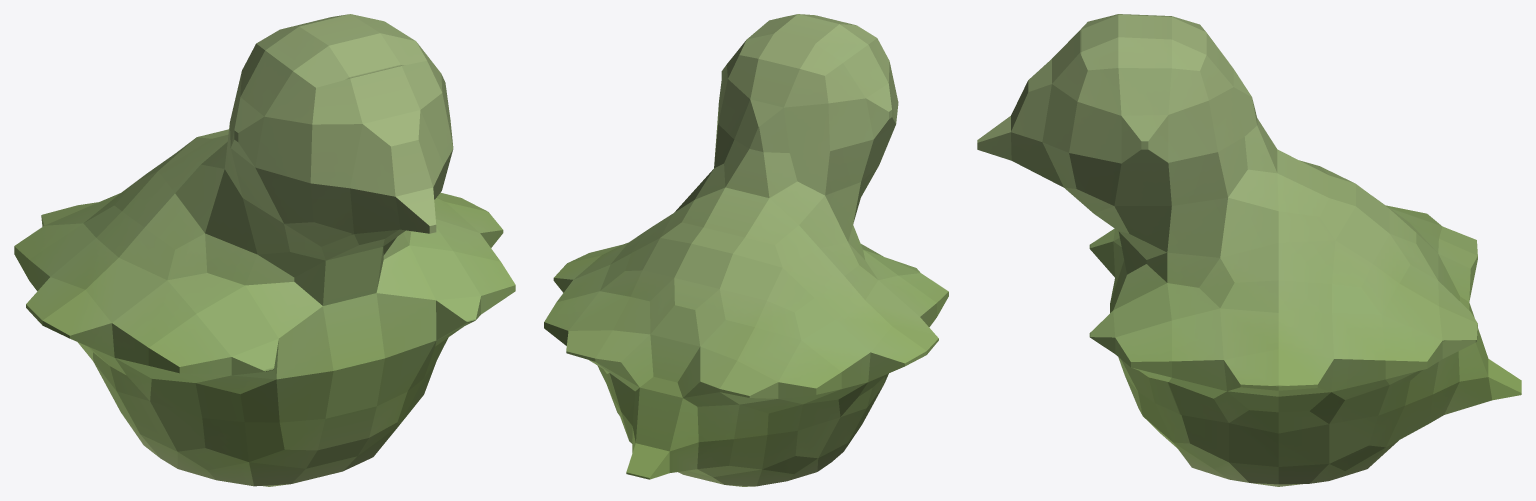
The model's file is poisonMoth.glb.
The picture shows the model from 3 angles, left to right: view 1: azimuth 30°, elevation 25°; view 2: azimuth 150°, elevation 25°; view 3: azimuth 270°, elevation 25°; orthographic projection. The views are drawn at different scales.
Parts seen in each view (by area): view 1: geometry_0; view 2: geometry_0; view 3: geometry_0.
Part boxes in pixels (x1=…): geometry_0: x1=14, y1=14, x2=515, y2=486; geometry_0: x1=544, y1=14, x2=948, y2=486; geometry_0: x1=977, y1=14, x2=1521, y2=486.
Bounding box in the file's own units: 0.8828 × 0.9358 × 1.04.
Materials: 1 (1 with a texture image).
